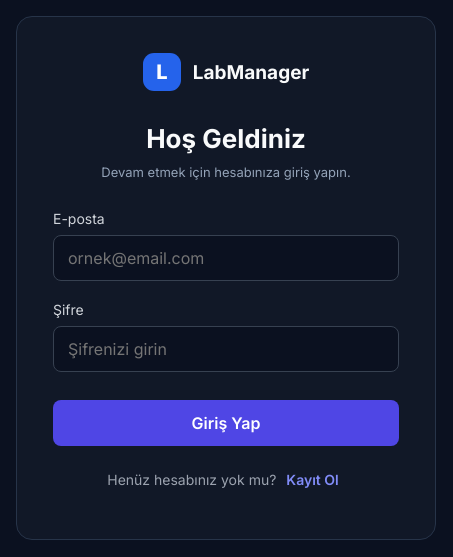
Test: Auth component › switches back to the login form
Click the button "Kayıt Ol": (313, 480) [280,470,345,489]
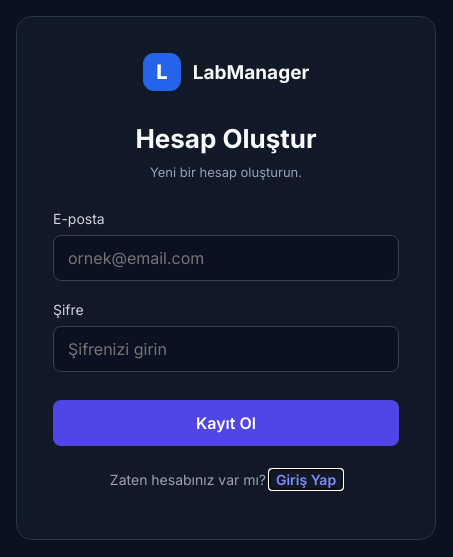
Click the button "Giriş Yap": (306, 480) [270,470,342,489]
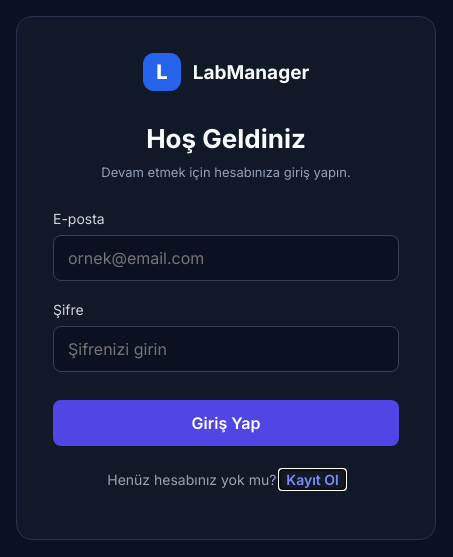
Expected: the heading "Hoş Geldiniz" is shown, [146,123,306,154]
